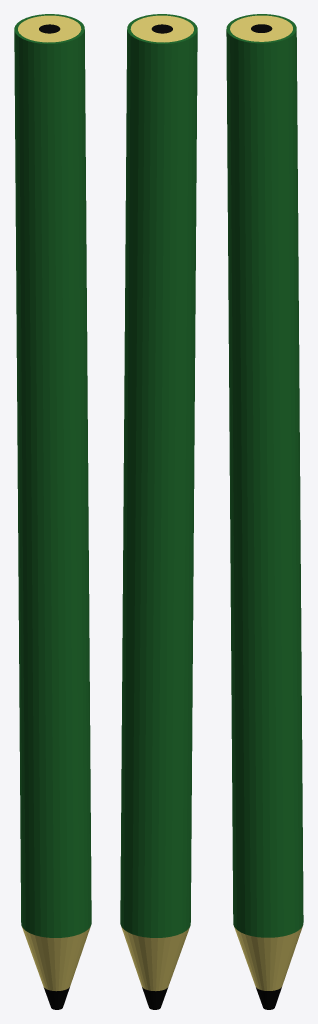
File: pen1.fbx
3 renders of one model, left to right at view 1: azimuth 30°, elevation 25°; view 2: azimuth 150°, elevation 25°; view 3: azimuth 330°, elevation 25°, orthographic.
Visible parts, largest first — view 1: 円柱.002; view 2: 円柱.002; view 3: 円柱.002.
Part boxes in pixels (x1,y1,x2,y2): 円柱.002: (14, 14, 91, 1009); 円柱.002: (120, 14, 197, 1009); 円柱.002: (226, 14, 303, 1009).
Bounding box in the file's own units: 77.06 × 1060 × 69.06.
